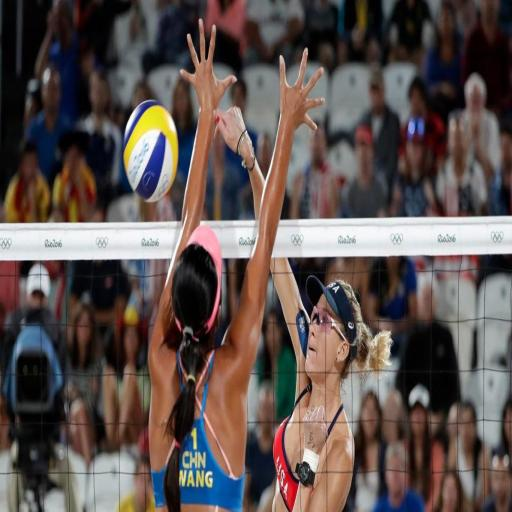person: (149, 20, 323, 511), (272, 259, 391, 511), (395, 274, 460, 414), (0, 263, 65, 385), (102, 303, 150, 449), (66, 304, 102, 465), (35, 0, 80, 122), (463, 0, 511, 112), (80, 71, 121, 198), (436, 114, 487, 216), (26, 67, 70, 185), (361, 63, 400, 189), (290, 124, 340, 218), (407, 384, 444, 510), (368, 256, 417, 350), (256, 309, 296, 423), (390, 118, 436, 217), (447, 402, 489, 510), (68, 261, 129, 334), (341, 125, 388, 218), (425, 0, 461, 121), (52, 131, 96, 222), (463, 73, 500, 181), (142, 0, 196, 73), (245, 381, 275, 510), (353, 391, 385, 511), (4, 141, 51, 222), (245, 0, 304, 63), (171, 77, 197, 218), (409, 77, 445, 177), (208, 138, 251, 219), (374, 443, 424, 511), (205, 0, 247, 71), (388, 0, 432, 66), (338, 0, 383, 64), (303, 0, 338, 70), (115, 456, 155, 511), (488, 123, 511, 215), (483, 450, 511, 511), (434, 471, 469, 511), (381, 389, 405, 444), (446, 402, 459, 453), (500, 398, 511, 456)
